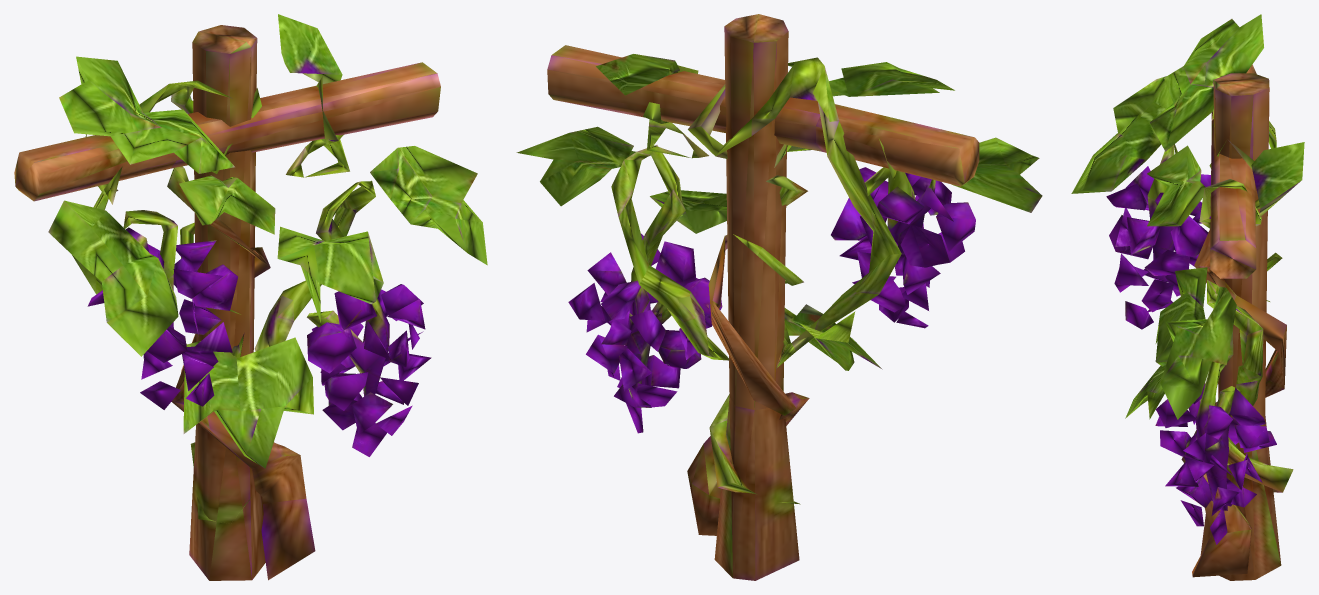
The model's file is crop_grape.glb.
3 views of the same model, side by side, from view 1: azimuth 30°, elevation 25°; view 2: azimuth 150°, elevation 25°; view 3: azimuth 270°, elevation 25° (orthographic). The views are drawn at different scales.
Size of the model in its own units: 0.9179 by 1 by 0.4322.
1 material, 1 textured.
